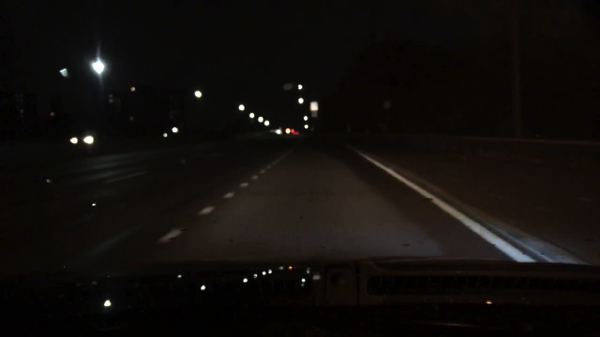car: (68, 128, 115, 154), (275, 126, 300, 138)
traffic sign: (309, 101, 317, 112), (311, 112, 317, 118)
